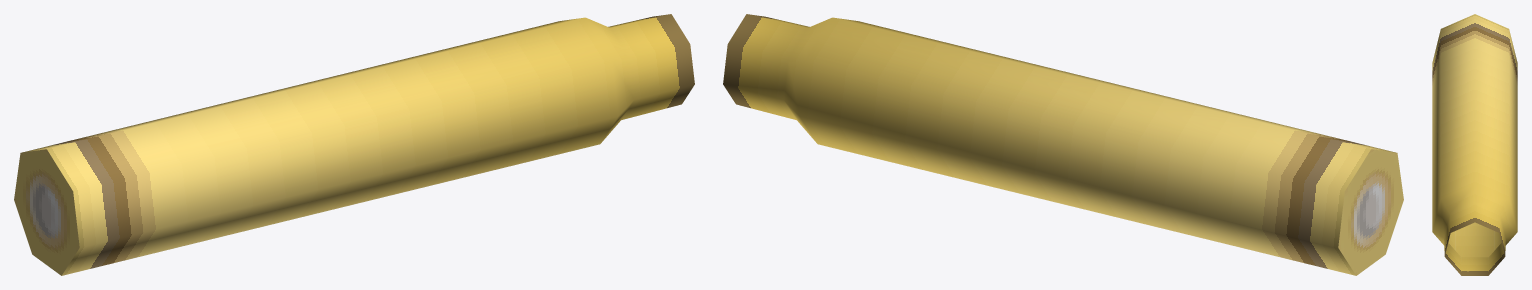
The model's file is 3006Round_Spent.fbx.
The picture shows the model from 3 angles, left to right: view 1: azimuth 30°, elevation 25°; view 2: azimuth 150°, elevation 25°; view 3: azimuth 270°, elevation 25°; orthographic projection. The views are drawn at different scales.
Parts seen in each view (by area): view 1: 3006ammo_spent; view 2: 3006ammo_spent; view 3: 3006ammo_spent.
Part boxes in pixels (x1,y1,x2,y2): 3006ammo_spent: (14,14,694,275); 3006ammo_spent: (723,14,1403,275); 3006ammo_spent: (1432,14,1517,275).
Bounding box in the file's own units: 0.12 × 0.0213 × 0.0219.
